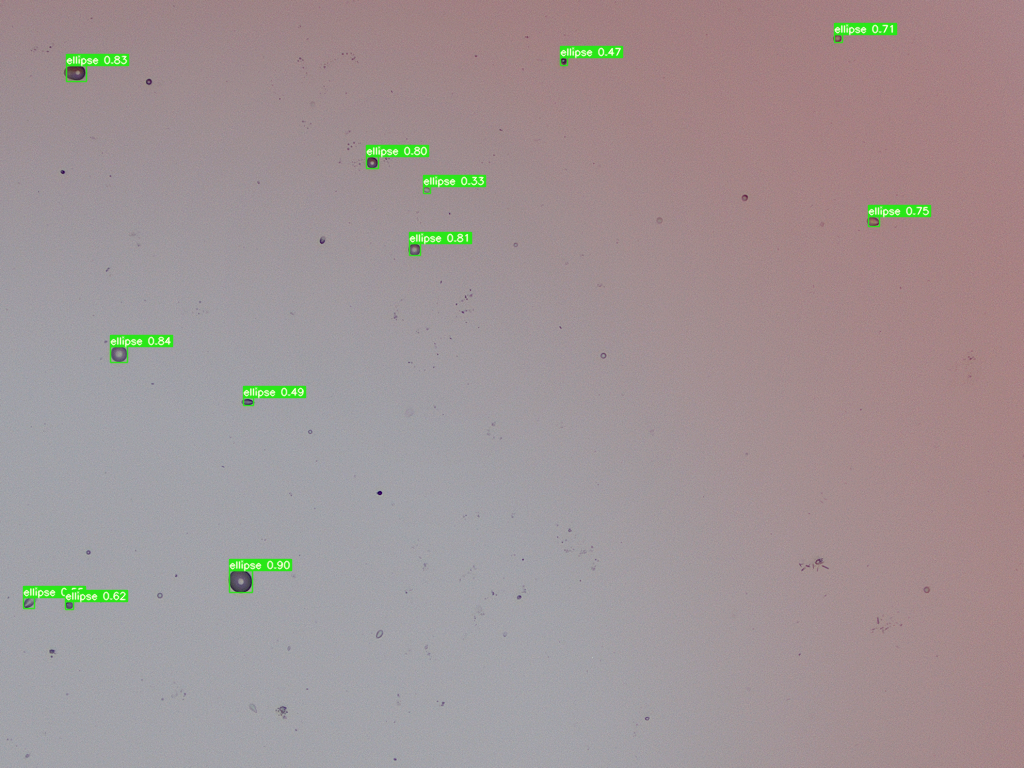circle: (228, 569, 252, 592), (111, 346, 126, 361), (408, 243, 420, 255), (367, 157, 377, 168), (834, 34, 841, 41), (65, 602, 72, 608), (656, 217, 662, 223), (742, 194, 747, 200), (157, 593, 162, 598), (924, 587, 929, 592), (146, 79, 151, 84), (561, 57, 566, 62), (601, 353, 605, 358)
ellipse: (866, 216, 879, 226), (319, 236, 325, 244), (423, 187, 430, 192)
